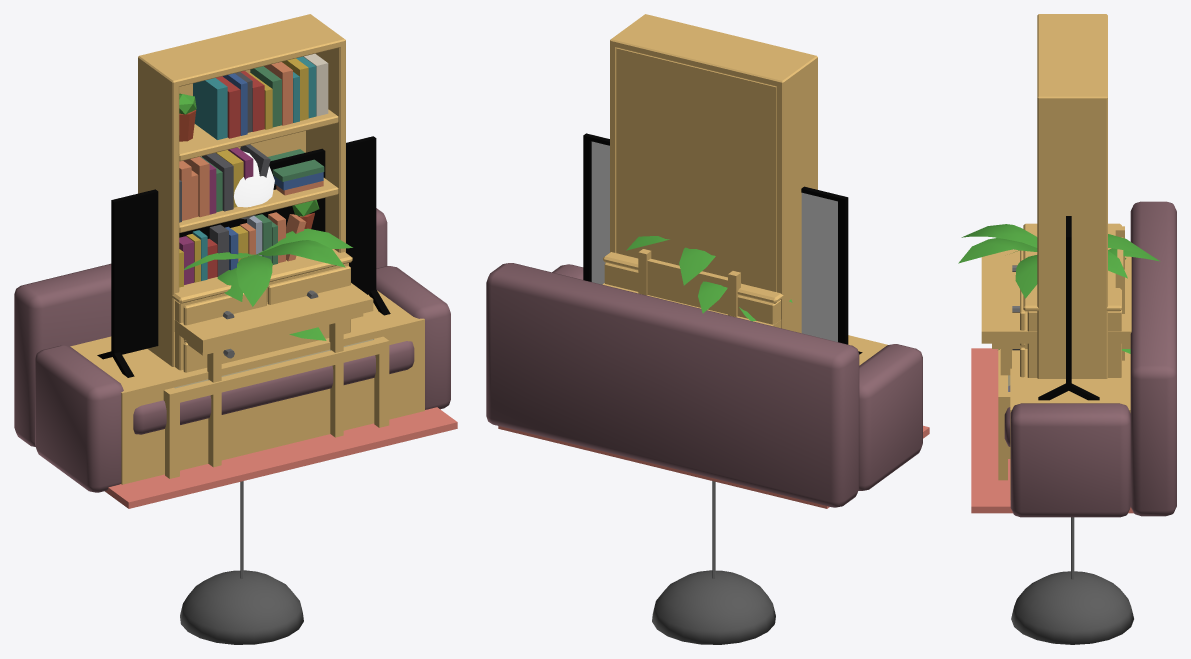
File: Interior.glb
3 views of the same model, side by side, from view 1: azimuth 30°, elevation 25°; view 2: azimuth 150°, elevation 25°; view 3: azimuth 270°, elevation 25° (orthographic).
Visible parts, largest first — view 1: Bookcase, TV, Sofa, Table, Rug, Drawers, Pendant, Coffee Table, Plant, Lamp; view 2: Sofa, Bookcase, TV, Pendant, Chair, Drawers, Plant, Rug; view 3: Sofa, Bookcase, Pendant, Table, Rug, TV, Plant, Drawers, Coffee Table, Chair.
Boxes of the visible parts, box(x1,y1,x2,y2) form: Bookcase: box(138, 14, 345, 366); TV: box(70, 136, 424, 484); Sofa: box(14, 208, 450, 492); Table: box(174, 283, 373, 467); Rug: box(105, 407, 457, 508); Drawers: box(172, 200, 352, 372); Pendant: box(180, 481, 303, 644); Coffee Table: box(163, 336, 389, 478); Plant: box(184, 228, 352, 340); Lamp: box(234, 151, 274, 219); Sofa: box(486, 263, 922, 507); Bookcase: box(610, 14, 817, 333); TV: box(583, 133, 887, 365); Pendant: box(652, 481, 775, 644); Chair: box(638, 249, 740, 317); Drawers: box(603, 252, 801, 324); Plant: box(626, 236, 792, 321); Rug: box(498, 425, 929, 508); Sofa: box(1004, 201, 1176, 517); Bookcase: box(1037, 14, 1107, 378); Pendant: box(1011, 517, 1133, 644); Table: box(981, 249, 1131, 458); Rug: box(971, 348, 1133, 513); TV: box(1010, 216, 1130, 499); Plant: box(958, 224, 1160, 353); Drawers: box(1012, 223, 1121, 377); Coffee Table: box(998, 349, 1010, 480); Chair: box(1115, 226, 1124, 360).
Size of the model in its own units: 9.42 by 14.44 by 4.98.
